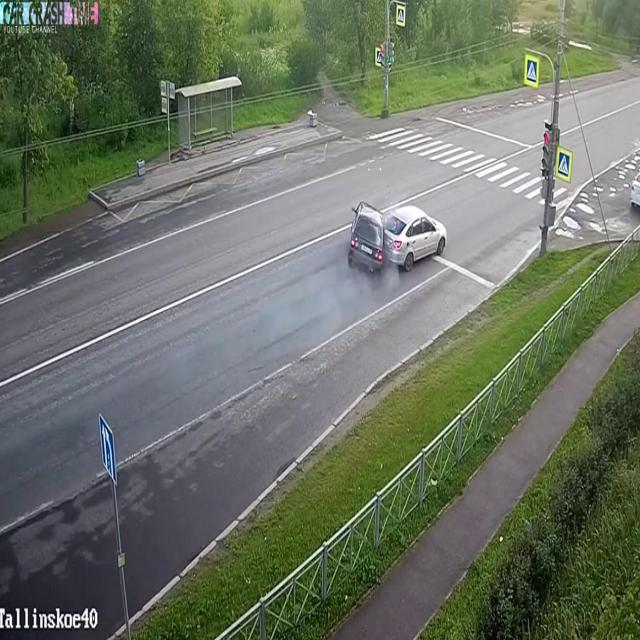accident: (342, 186, 454, 298)
